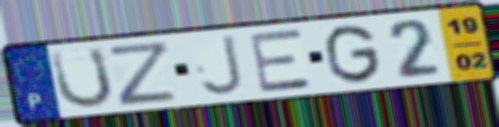2: (387, 18, 444, 80)
E: (247, 27, 316, 95)
G: (323, 22, 384, 86)
J: (198, 32, 247, 98)
U: (47, 45, 116, 111)
Z: (105, 39, 180, 108)
